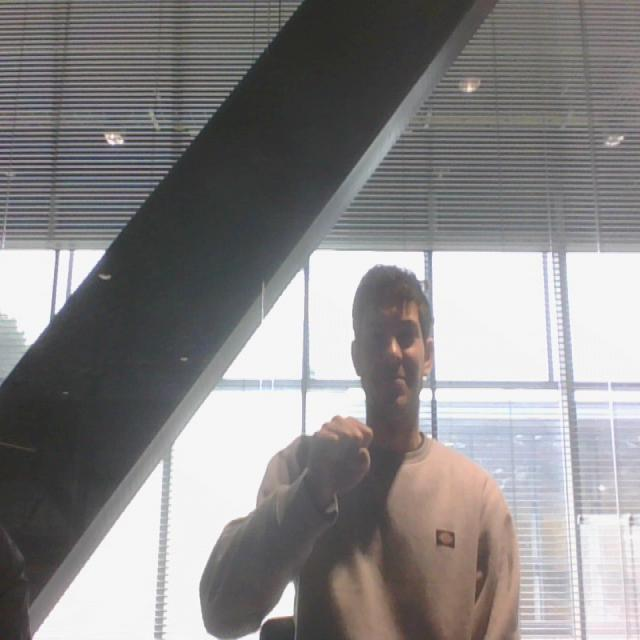stop: (302, 396, 376, 514)
